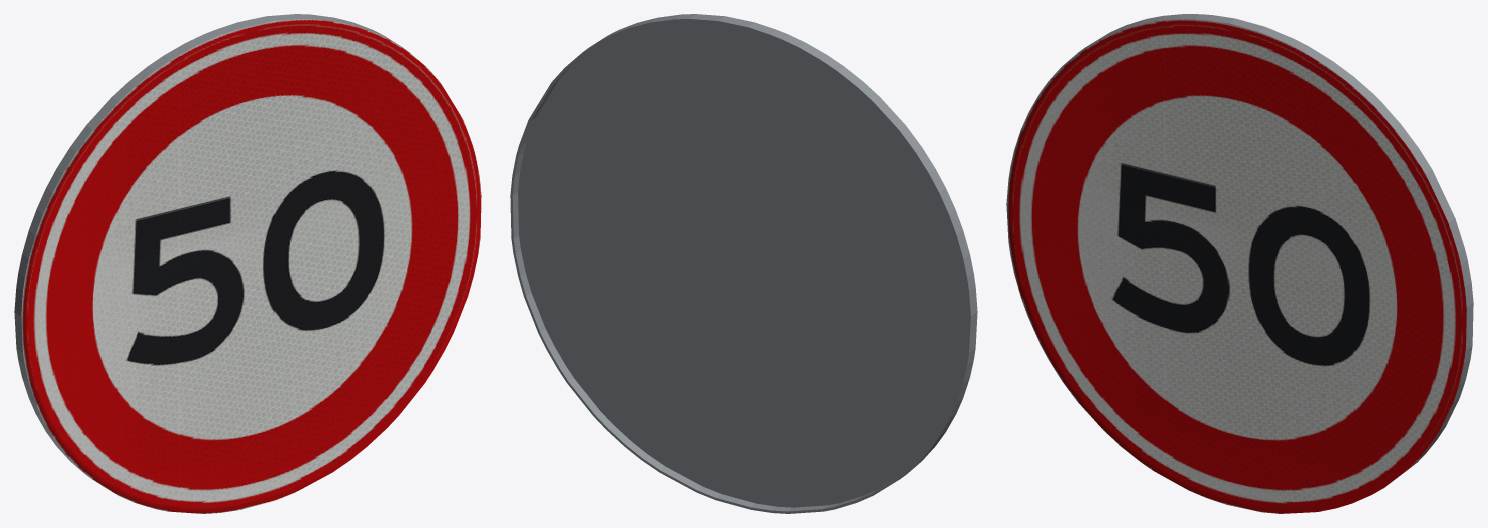
The picture shows the model from 3 angles, left to right: view 1: azimuth 30°, elevation 25°; view 2: azimuth 150°, elevation 25°; view 3: azimuth 330°, elevation 25°; orthographic projection.
Parts seen in each view (by area): view 1: cat_4fdc2537abb470fe; view 2: cat_4fdc2537abb470fe; view 3: cat_4fdc2537abb470fe.
Part boxes in pixels (x1=…): cat_4fdc2537abb470fe: x1=14, y1=14, x2=481, y2=513; cat_4fdc2537abb470fe: x1=510, y1=14, x2=977, y2=513; cat_4fdc2537abb470fe: x1=1006, y1=14, x2=1473, y2=513.
Bounding box in the file's own units: 0.6 × 0.015 × 0.6.
Materials: 2 (1 with a texture image).
